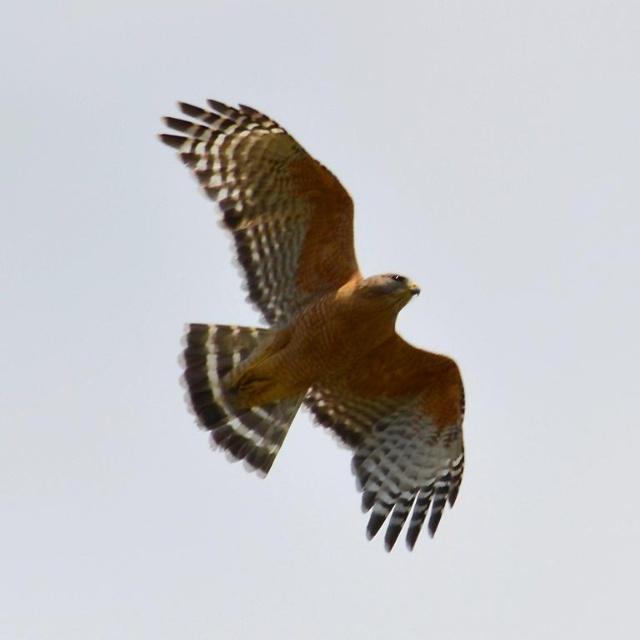Eagle: (157, 99, 466, 554)
